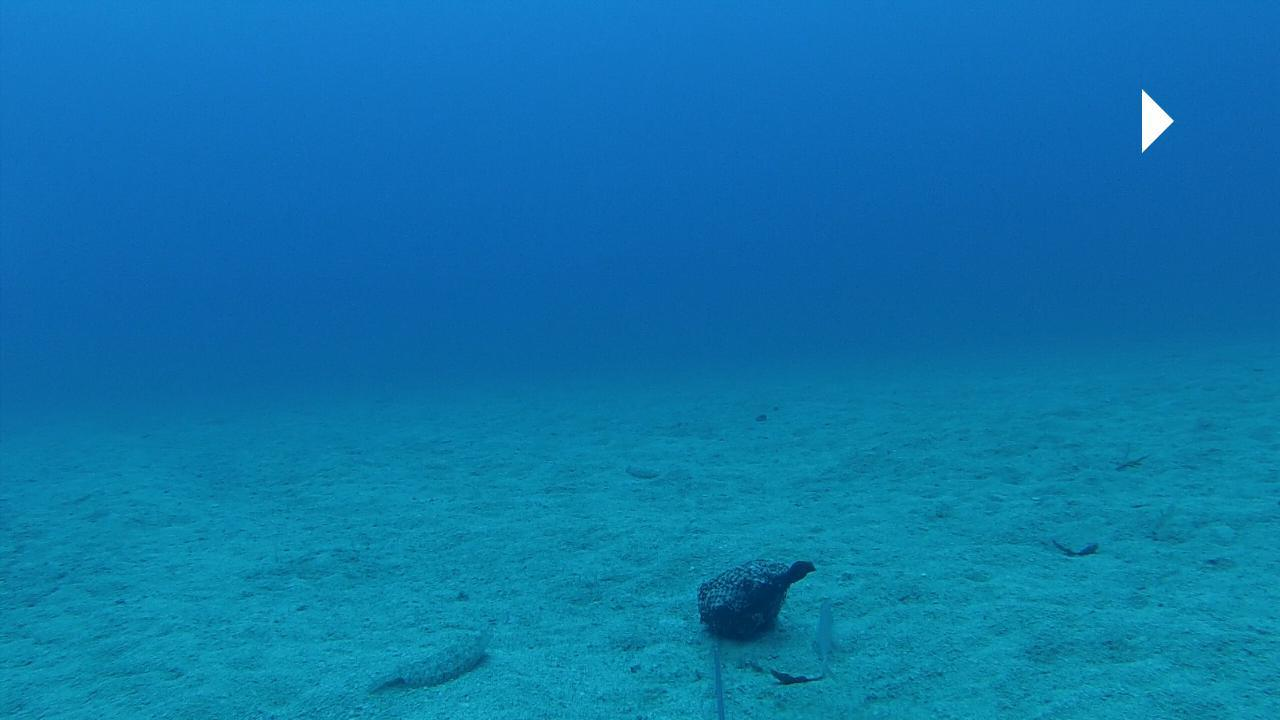bothus: (367, 621, 492, 692), (621, 458, 661, 480)
